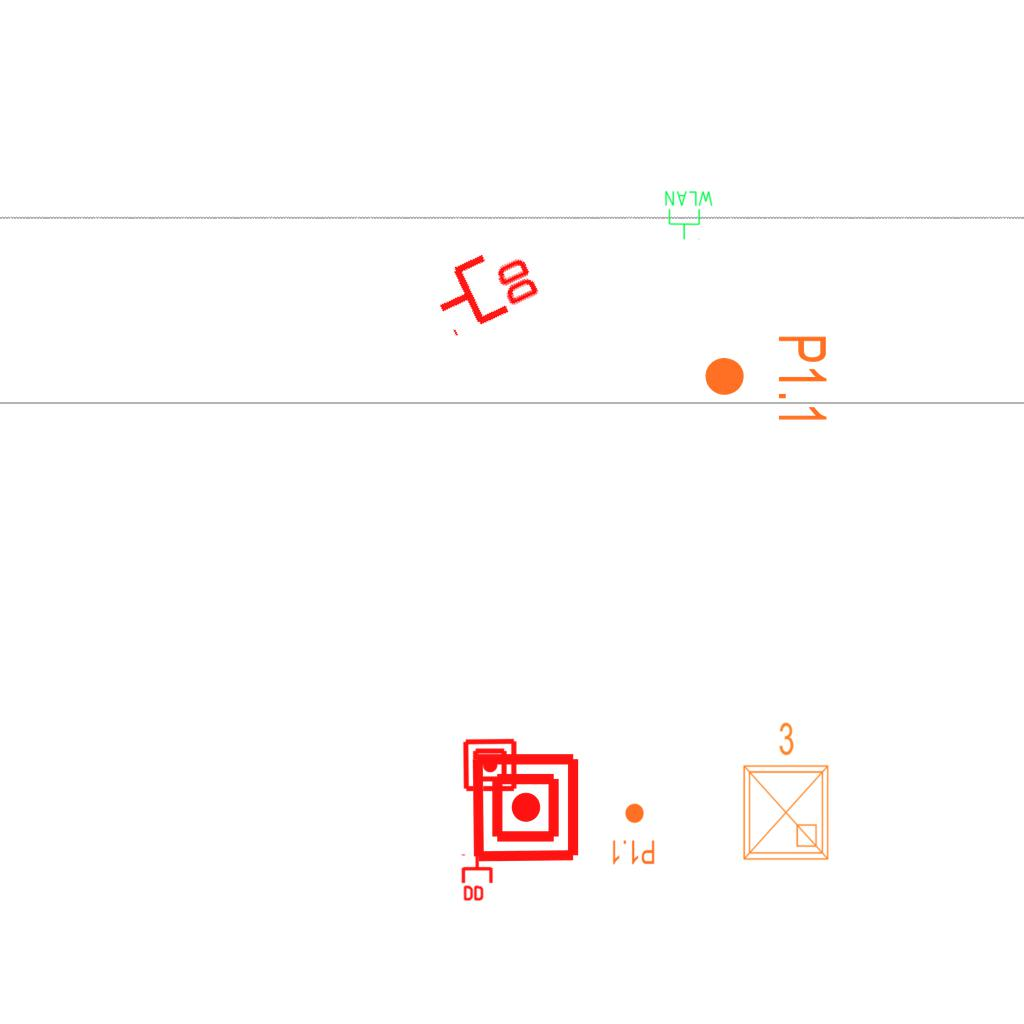Datenanschluss_zweifach: (423, 233, 546, 340), (461, 852, 495, 903)
Downlight_LED_Einbauleuchten_Flur: (702, 333, 830, 426), (610, 802, 656, 866)
Einbaudownlights_LED_Konferenzraeume: (732, 717, 836, 867)
NAM-Nichtautomatischer_Melder: (469, 751, 582, 864), (462, 737, 518, 793)
WLAN: (663, 189, 715, 241)
